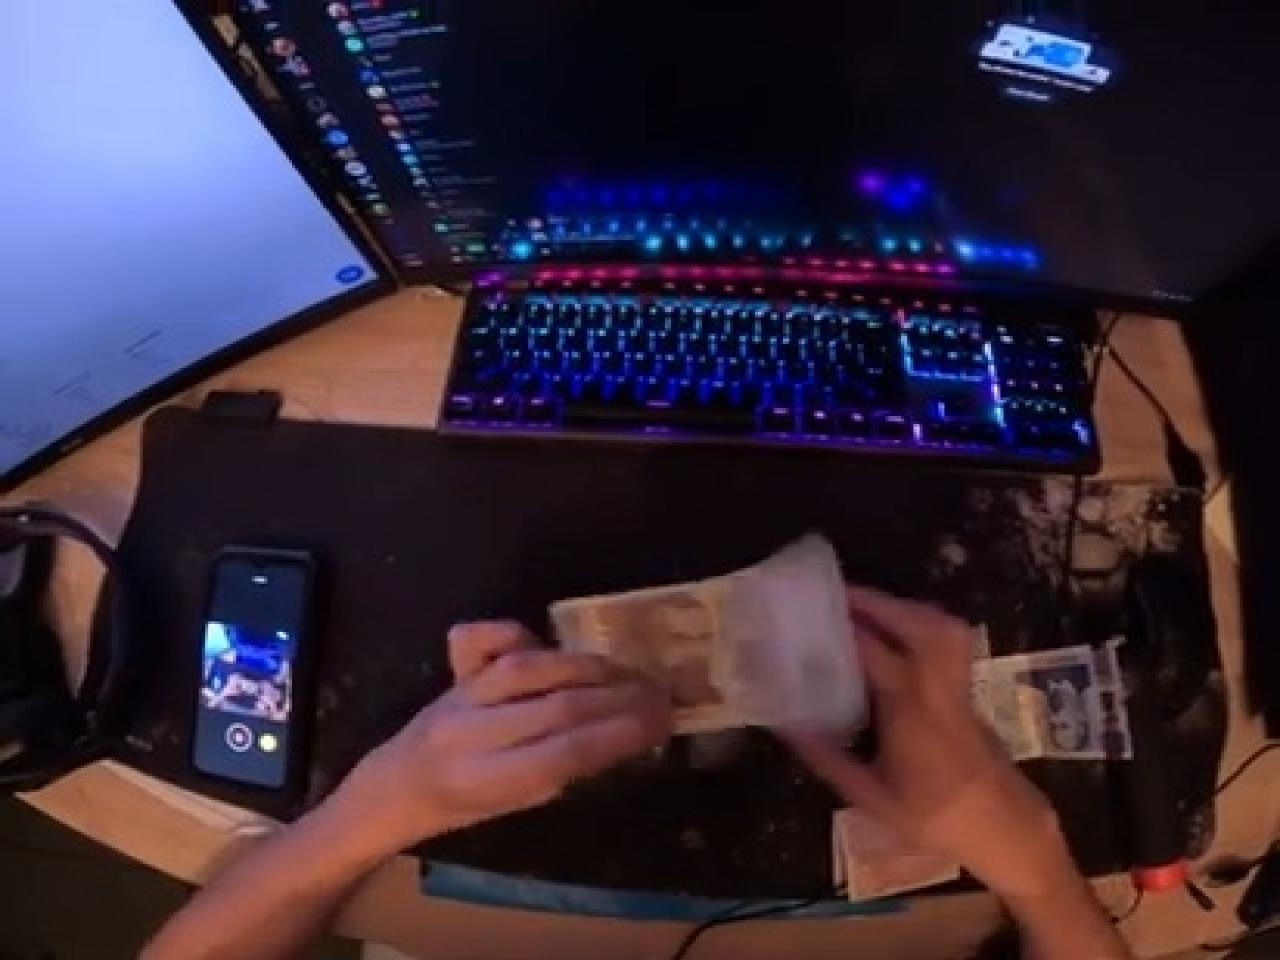50leva: (550, 530, 873, 760)
